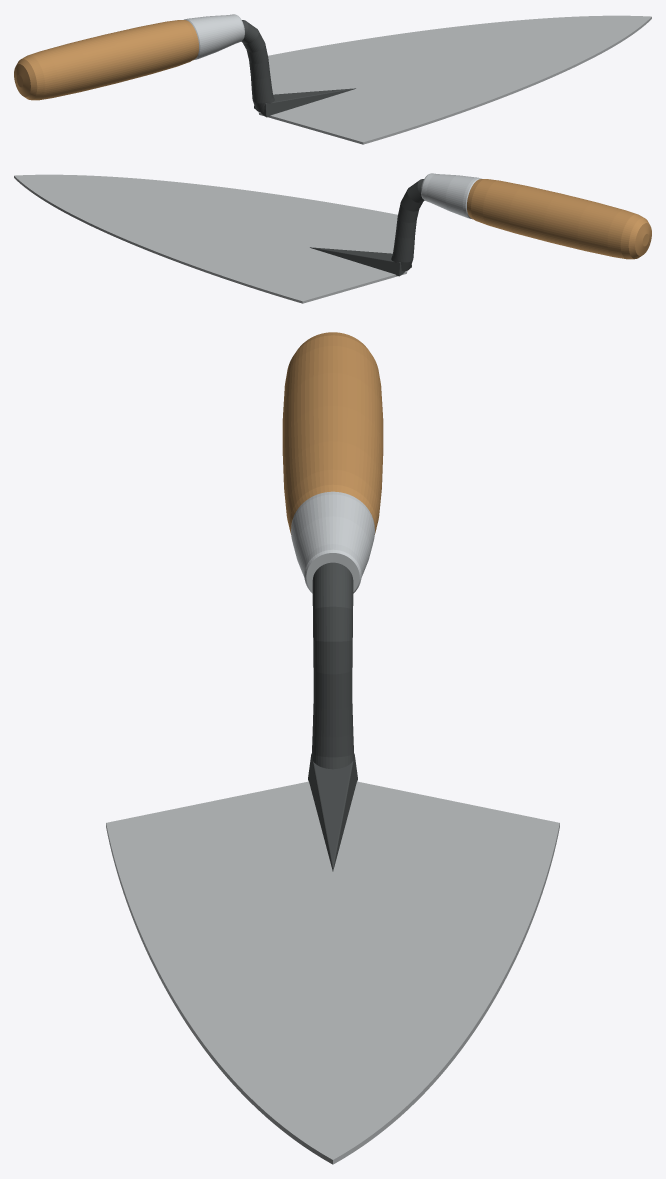
3 views of the same model, one above another, from view 1: azimuth 30°, elevation 25°; view 2: azimuth 150°, elevation 25°; view 3: azimuth 270°, elevation 25° (orthographic). The views are drawn at different scales.
Visible parts, largest first — view 1: Thin_pointed_Philadelphia_blade, Closed_barrel_shaped_wooden_grip, Tapered_steel_handle_ferrule, Raised_offset_forged_shank, Triangular_forged_blade_seat; view 2: Thin_pointed_Philadelphia_blade, Closed_barrel_shaped_wooden_grip, Tapered_steel_handle_ferrule, Raised_offset_forged_shank, Triangular_forged_blade_seat; view 3: Thin_pointed_Philadelphia_blade, Closed_barrel_shaped_wooden_grip, Raised_offset_forged_shank, Tapered_steel_handle_ferrule, Triangular_forged_blade_seat.
Part boxes in pixels (bbox=[...]): Thin_pointed_Philadelphia_blade: bbox=[258, 15, 651, 144]; Closed_barrel_shaped_wooden_grip: bbox=[14, 20, 198, 100]; Tapered_steel_handle_ferrule: bbox=[184, 14, 244, 60]; Raised_offset_forged_shank: bbox=[241, 20, 274, 112]; Triangular_forged_blade_seat: bbox=[254, 88, 355, 117]; Thin_pointed_Philadelphia_blade: bbox=[14, 174, 407, 303]; Closed_barrel_shaped_wooden_grip: bbox=[467, 179, 651, 259]; Tapered_steel_handle_ferrule: bbox=[421, 173, 481, 219]; Raised_offset_forged_shank: bbox=[391, 179, 424, 271]; Triangular_forged_blade_seat: bbox=[310, 247, 411, 276]; Thin_pointed_Philadelphia_blade: bbox=[106, 781, 559, 1164]; Closed_barrel_shaped_wooden_grip: bbox=[282, 332, 383, 534]; Raised_offset_forged_shank: bbox=[312, 562, 353, 769]; Tapered_steel_handle_ferrule: bbox=[291, 491, 374, 593]; Triangular_forged_blade_seat: bbox=[308, 753, 357, 871].
Bounding box in the file's own units: 0.4494 × 0.078 × 0.1397.
